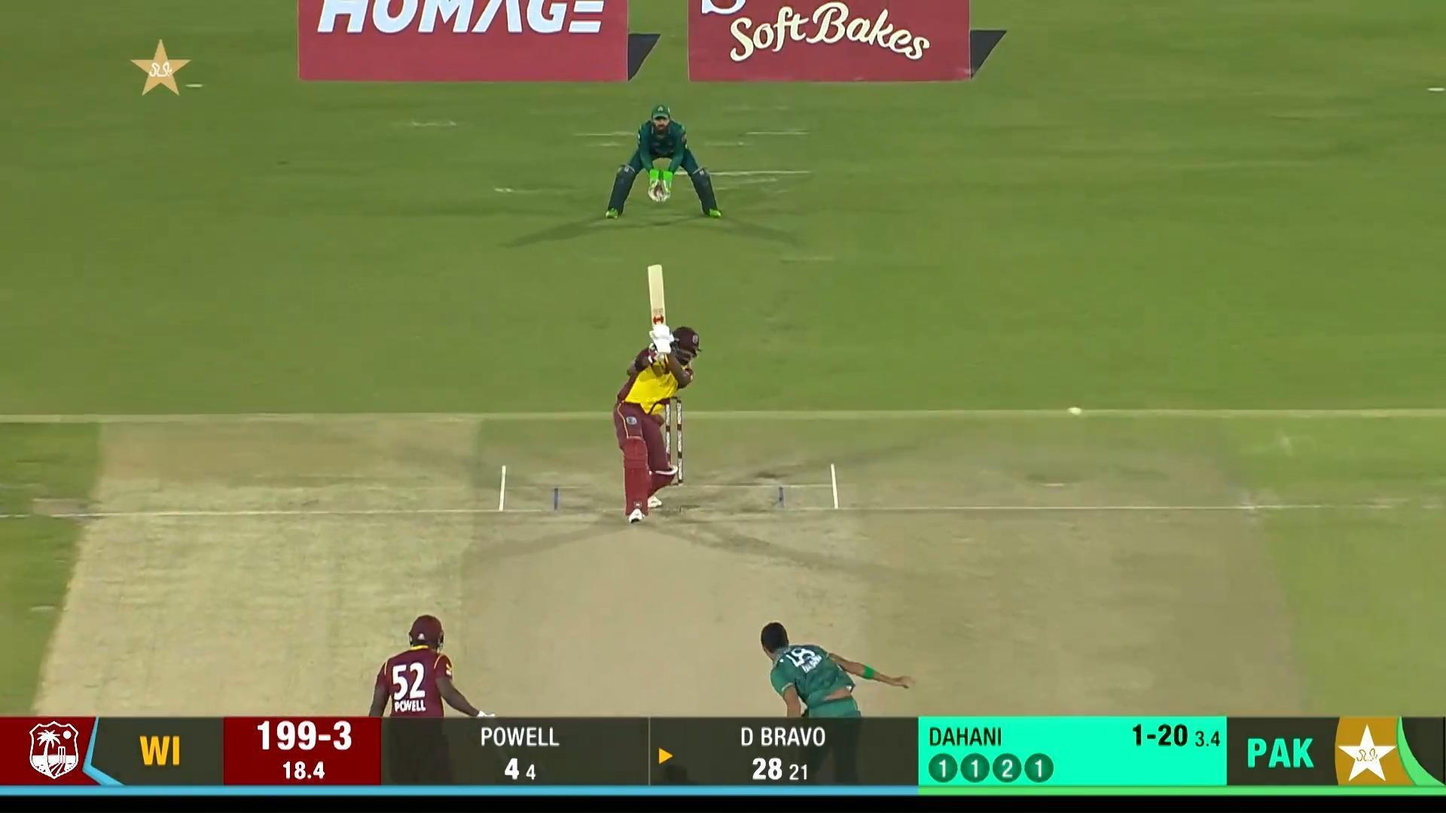BM 1: (613, 263, 703, 523)
BO: (758, 620, 918, 813)
